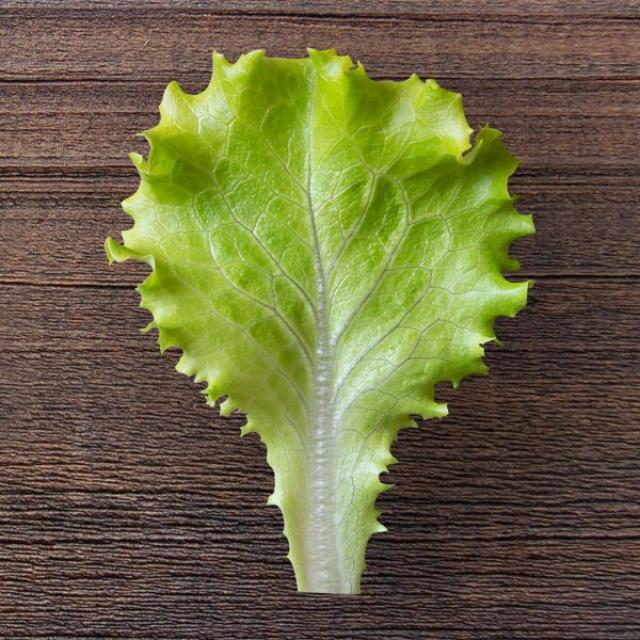lettuce: (104, 45, 536, 595)
